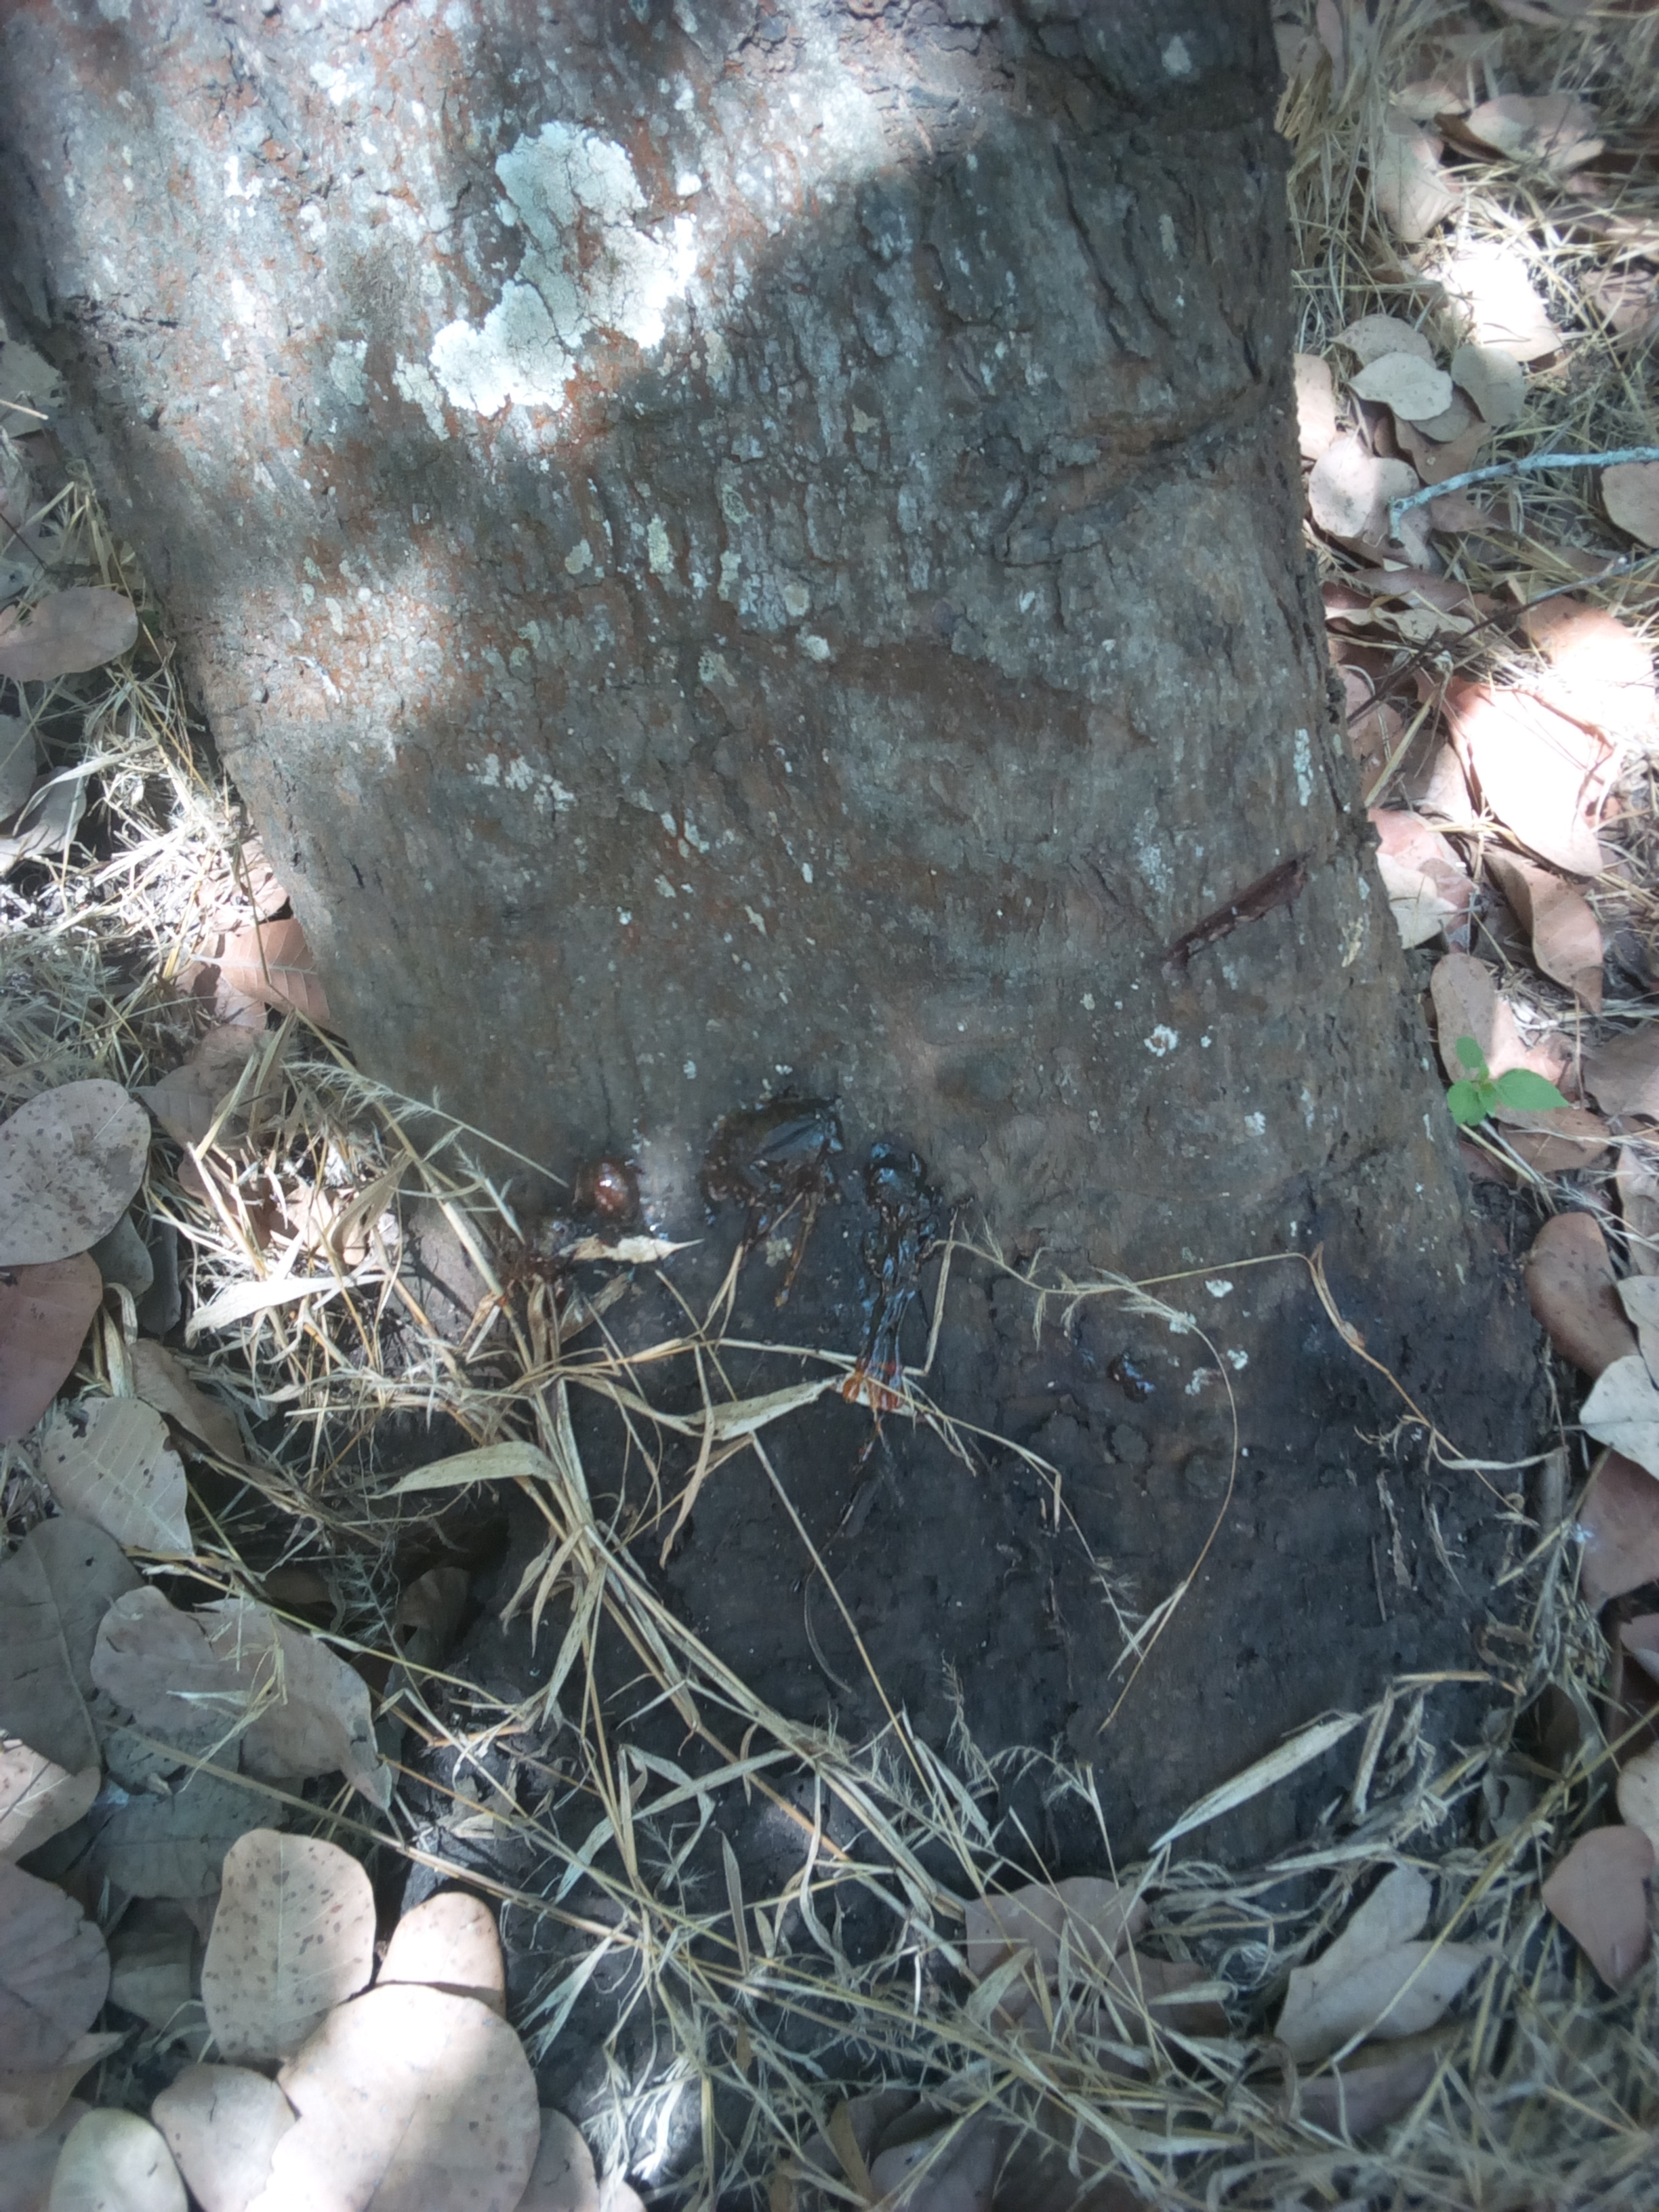Gommose: (565, 1109, 1586, 1815)
